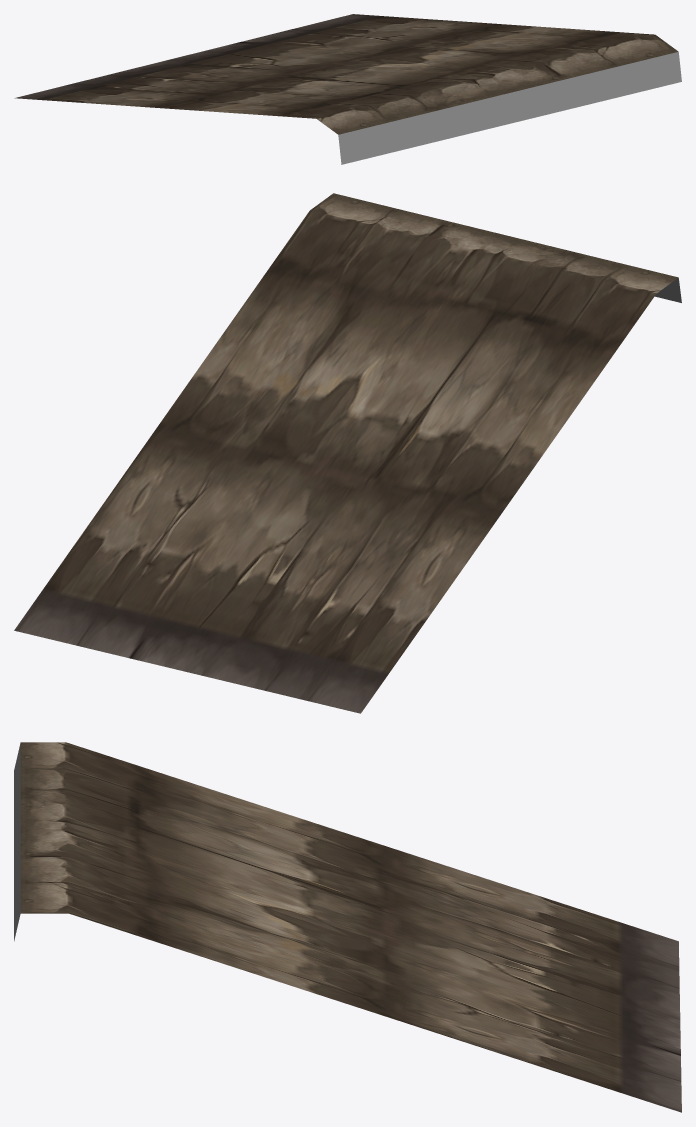
The model's file is stair_4_under_col.FBX.
The picture shows the model from 3 angles, top to bottom: view 1: azimuth 30°, elevation 25°; view 2: azimuth 150°, elevation 25°; view 3: azimuth 270°, elevation 25°; orthographic projection. The views are drawn at different scales.
Visible parts, largest first — view 1: stair_4_under_col; view 2: stair_4_under_col; view 3: stair_4_under_col.
Part boxes in pixels (<box>): stair_4_under_col: <box>14,14,681,164</box>; stair_4_under_col: <box>14,193,681,713</box>; stair_4_under_col: <box>14,742,681,1112</box>.
Bounding box in the file's own units: 4.32 × 2.33 × 7.
